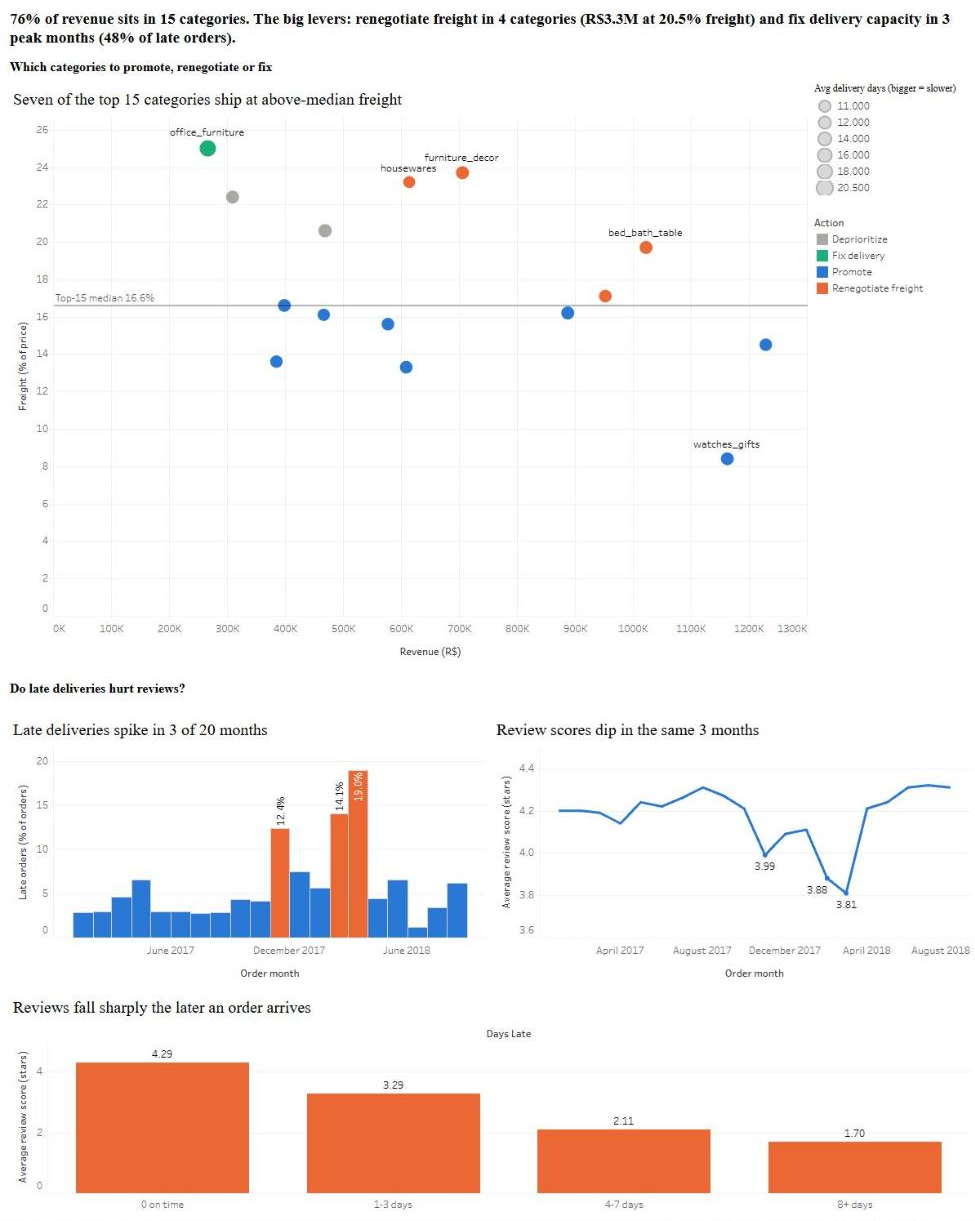

The page's visual inventory and layout, read from the dashboard file:
{"tool":"tableau","page":{"name":"Olist Dashboard","canvas":[1200,1500],"ordinal":0},"visuals":[{"type":"text","box":[8,8,1184,62]},{"type":"text","box":[8,70,1184,32]},{"type":"worksheet","title":"Category Map","mark":"Circle","rows":["freight_pct"],"cols":["revenue"],"box":[8,102,985,718]},{"type":"legend","title":"Category Map","param":"[federated.0fmutvv1ndtw7k11okcei0nh9fg7].[avg:avg_delivery_days:qk]","box":[993,102,199,163.1]},{"type":"legend","title":"Category Map","param":"[federated.0fmutvv1ndtw7k11okcei0nh9fg7].[none:action:nk]","box":[993,265.1,199,554.9]},{"type":"text","box":[8,820,1184,54]},{"type":"worksheet","title":"Late By Month","mark":"Bar","rows":["late_pct"],"cols":["month"],"box":[8,874,592,339.7]},{"type":"worksheet","title":"Review By Month","mark":"Line","rows":["avg_review"],"cols":["month"],"box":[600,874,592,339.7]},{"type":"worksheet","title":"Review By Days Late","mark":"Bar","rows":["avg_review"],"cols":["days_late_bucket"],"box":[8,1213.7,1184,278.3]}]}

Visuals, with their boxes in screenshot pixels (x1, y1, x2, y2), scaled from the page's 1200x1500 canvas onto the 975x1221 screenshot:
text: <box>6,7,968,57</box>
text: <box>6,57,968,83</box>
"Category Map" worksheet (Circle marks): <box>6,83,807,667</box>
"Category Map" legend: <box>807,83,968,216</box>
"Category Map" legend: <box>807,216,968,667</box>
text: <box>6,667,968,711</box>
"Late By Month" worksheet (Bar marks): <box>6,711,488,988</box>
"Review By Month" worksheet (Line marks): <box>488,711,968,988</box>
"Review By Days Late" worksheet (Bar marks): <box>6,988,968,1214</box>
